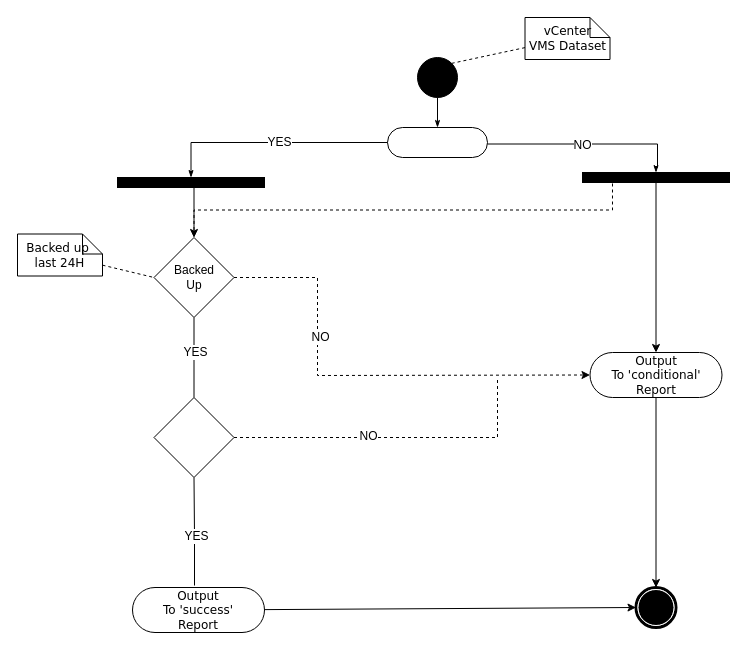
This 747x650 diagram has some shape labels left out. The shapes that lost their labels are listed below. From the top down, each one's centre as x and y in pixels, then its label:
At point 437,142: "VM TAG PRESENT".
At point 193,437: "Match B'Up Pattern".
